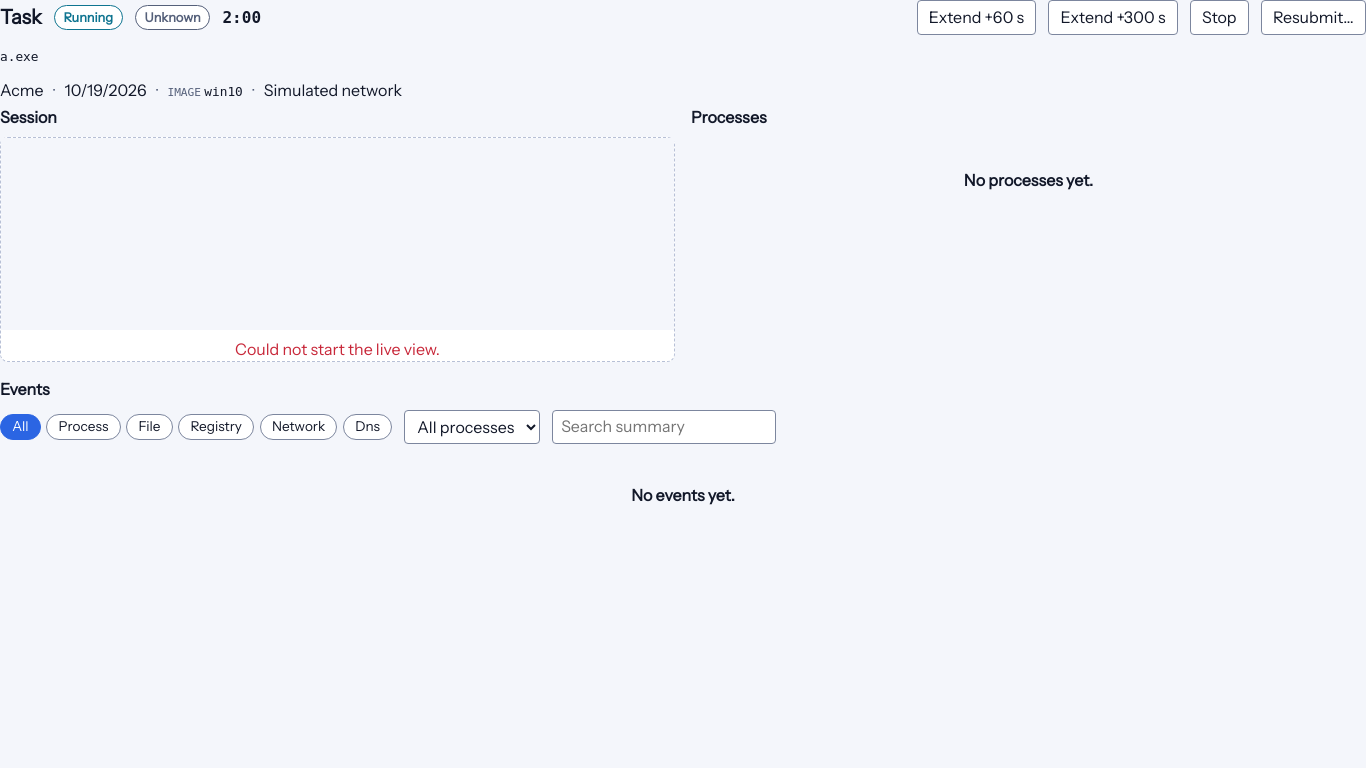
Test case: TaskPage › shows status, a countdown and working Extend/Stop for a running task
Expected: the text "Running" is shown, top-left (54, 5), bottom-right (123, 30)
Expected: the text named "Time remaining" reads "2:00", top-left (222, 8), bottom-right (261, 27)
Click the button "Extend +60 s".
click(976, 17)  # box top-left (916, 0), bottom-right (1036, 35)
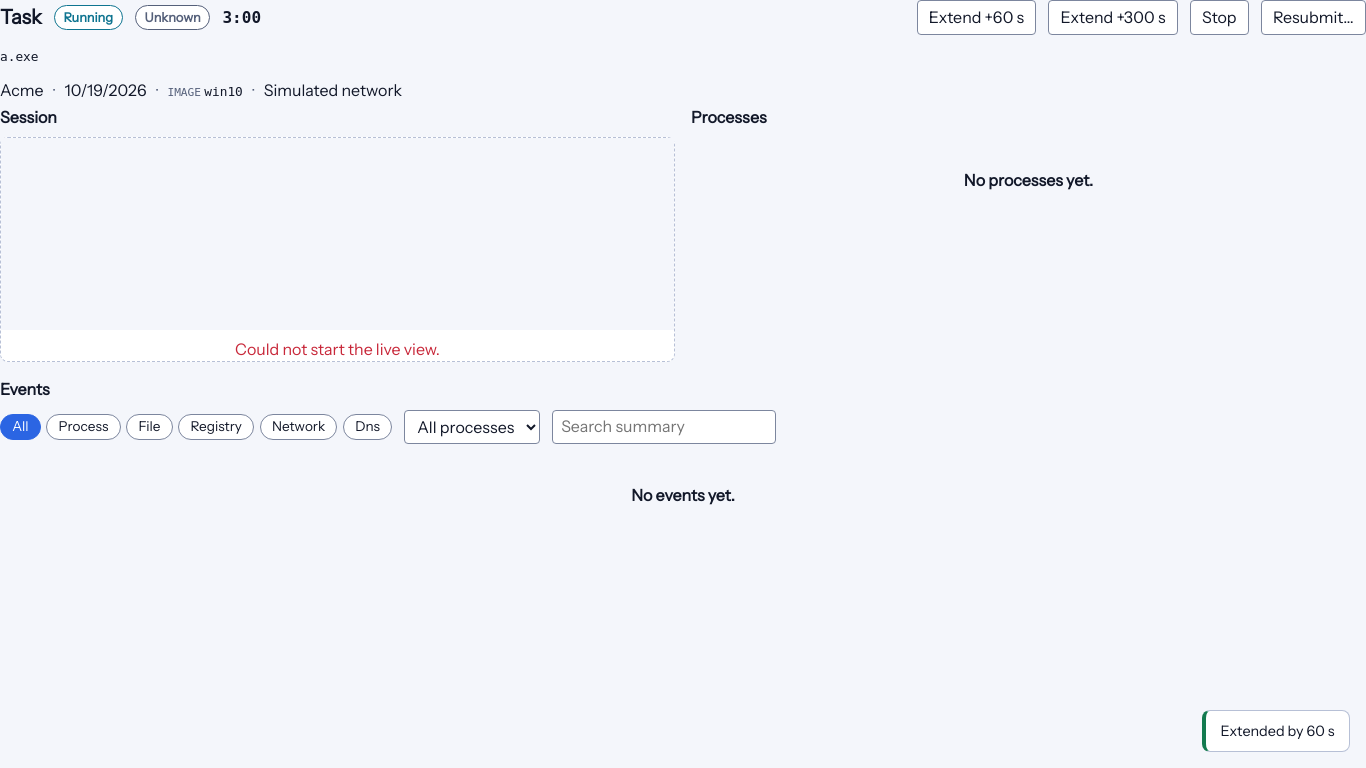
Expected: the text "Extended by 60 s" is shown, top-left (1220, 720), bottom-right (1335, 741)
Click the button "Extend +300 s".
click(1113, 17)  # box top-left (1048, 0), bottom-right (1178, 35)
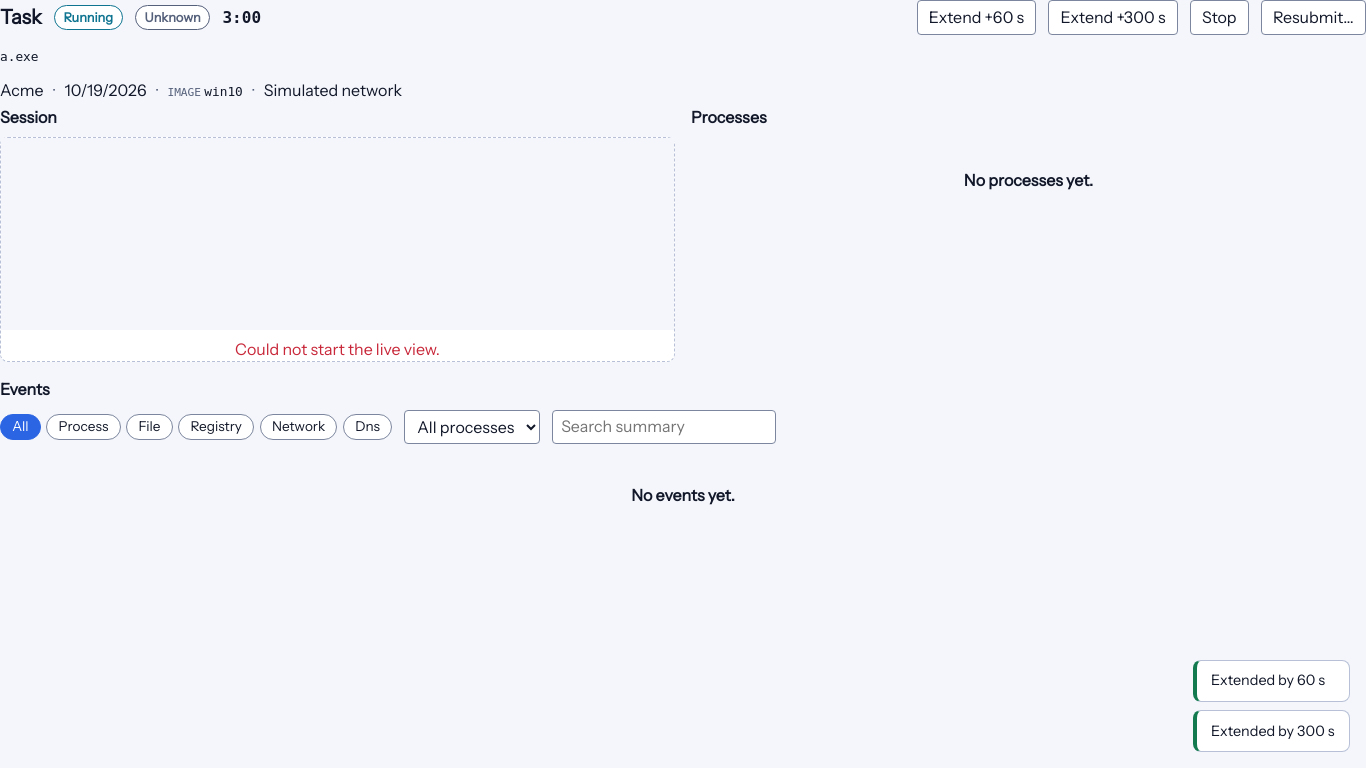
Click the button "Stop".
click(1219, 17)  # box top-left (1190, 0), bottom-right (1249, 35)
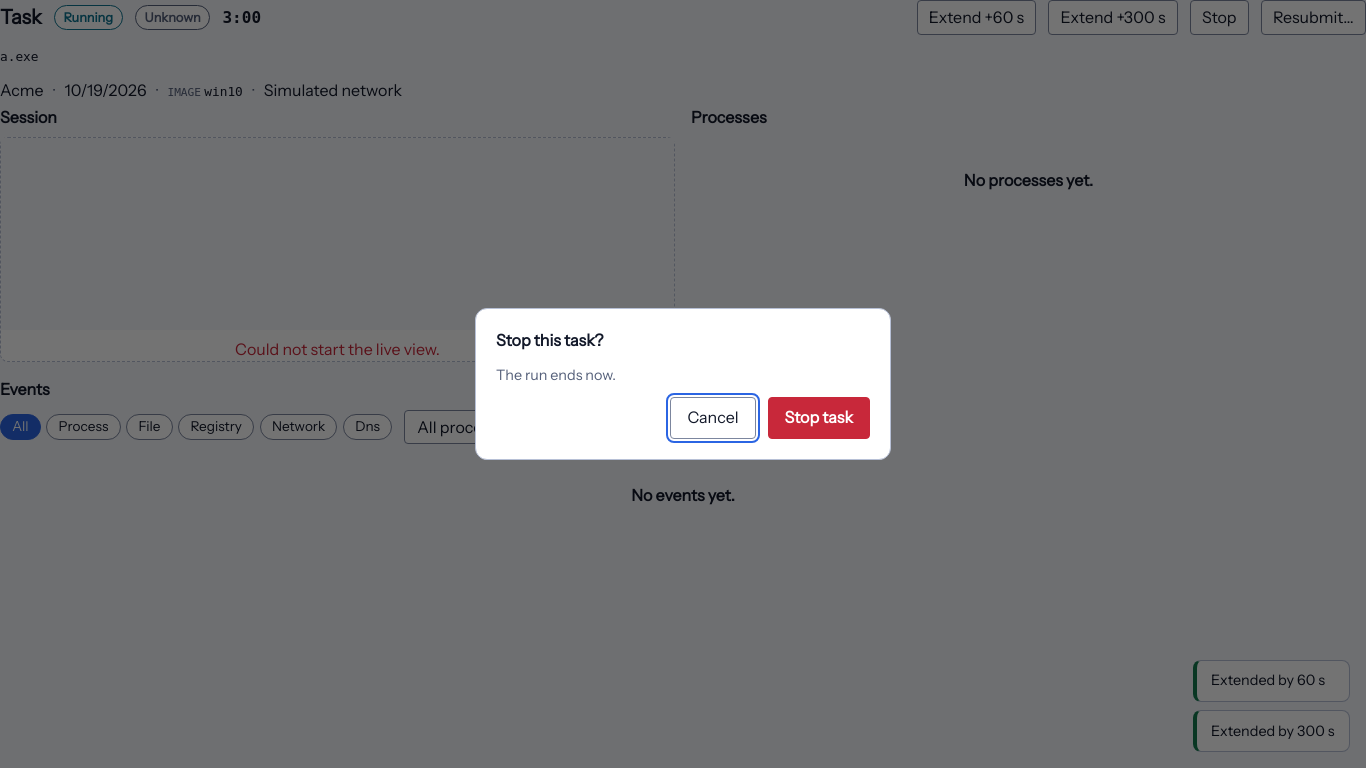
Click the button "Cancel".
click(713, 418)  # box top-left (670, 397), bottom-right (756, 439)
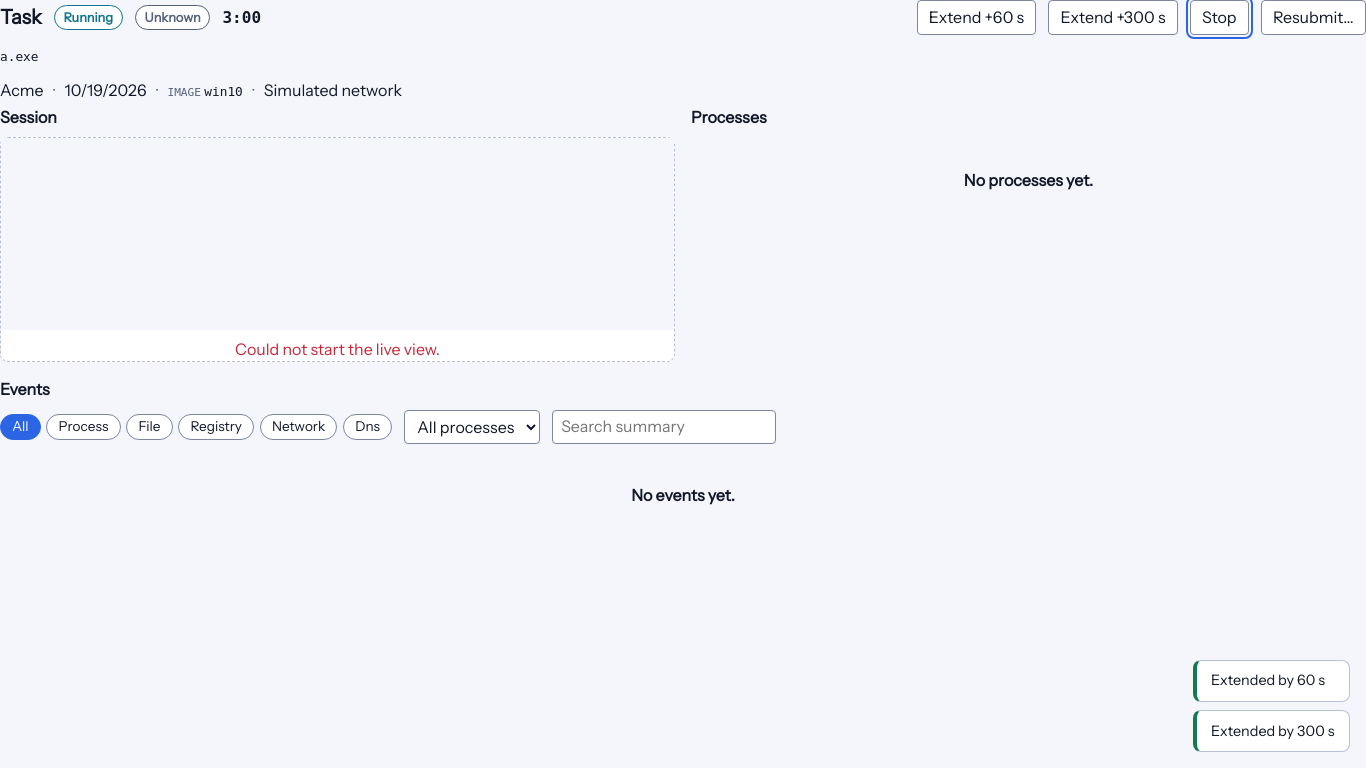
Click the button "Stop".
click(1219, 17)  # box top-left (1190, 0), bottom-right (1249, 35)
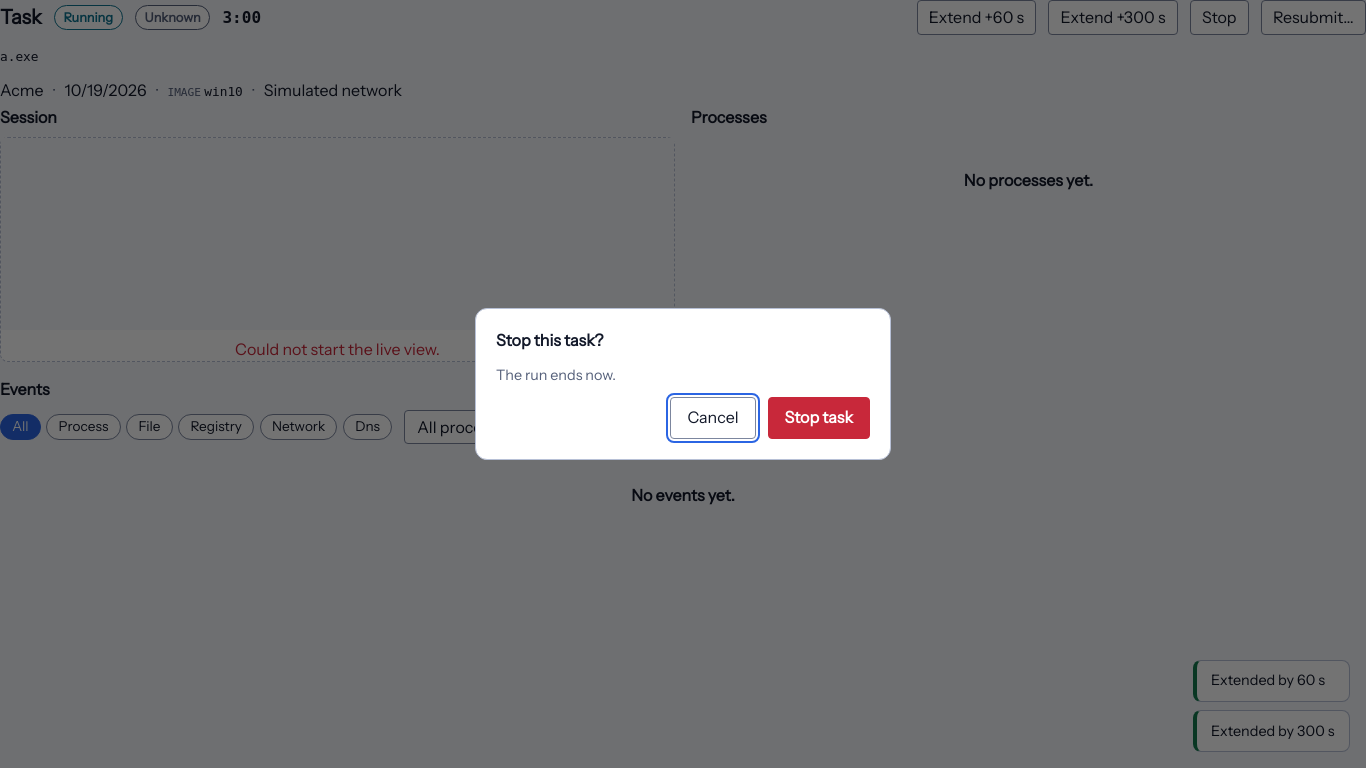
Click the button "Stop task".
click(819, 418)  # box top-left (768, 397), bottom-right (870, 439)
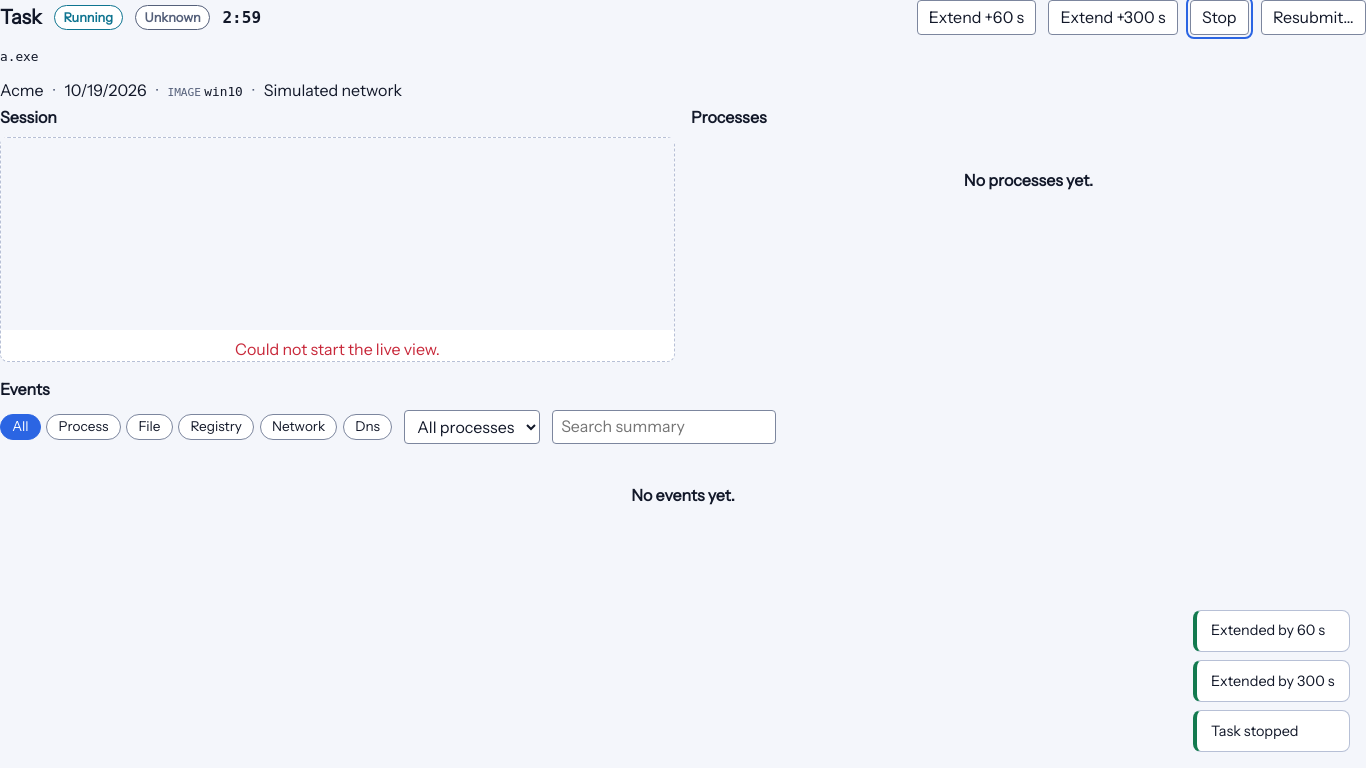
Expected: the element named "Live view" is shown, top-left (1, 138), bottom-right (674, 330)
Expected: the text "Task stopped" is shown, top-left (1211, 722), bottom-right (1299, 740)
